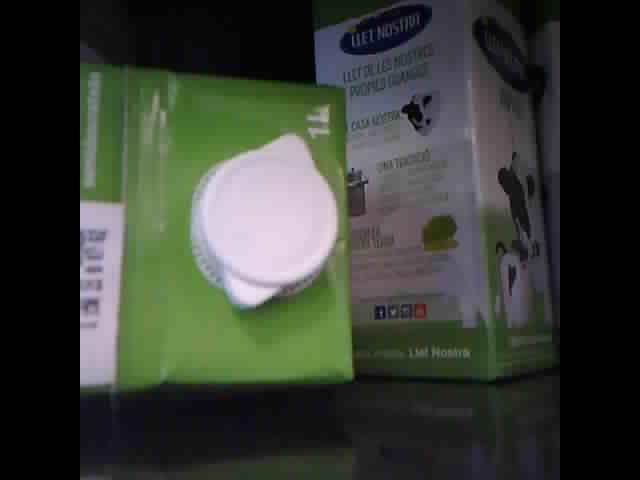leche: (81, 66, 354, 402), (313, 7, 558, 379), (525, 15, 562, 309)
